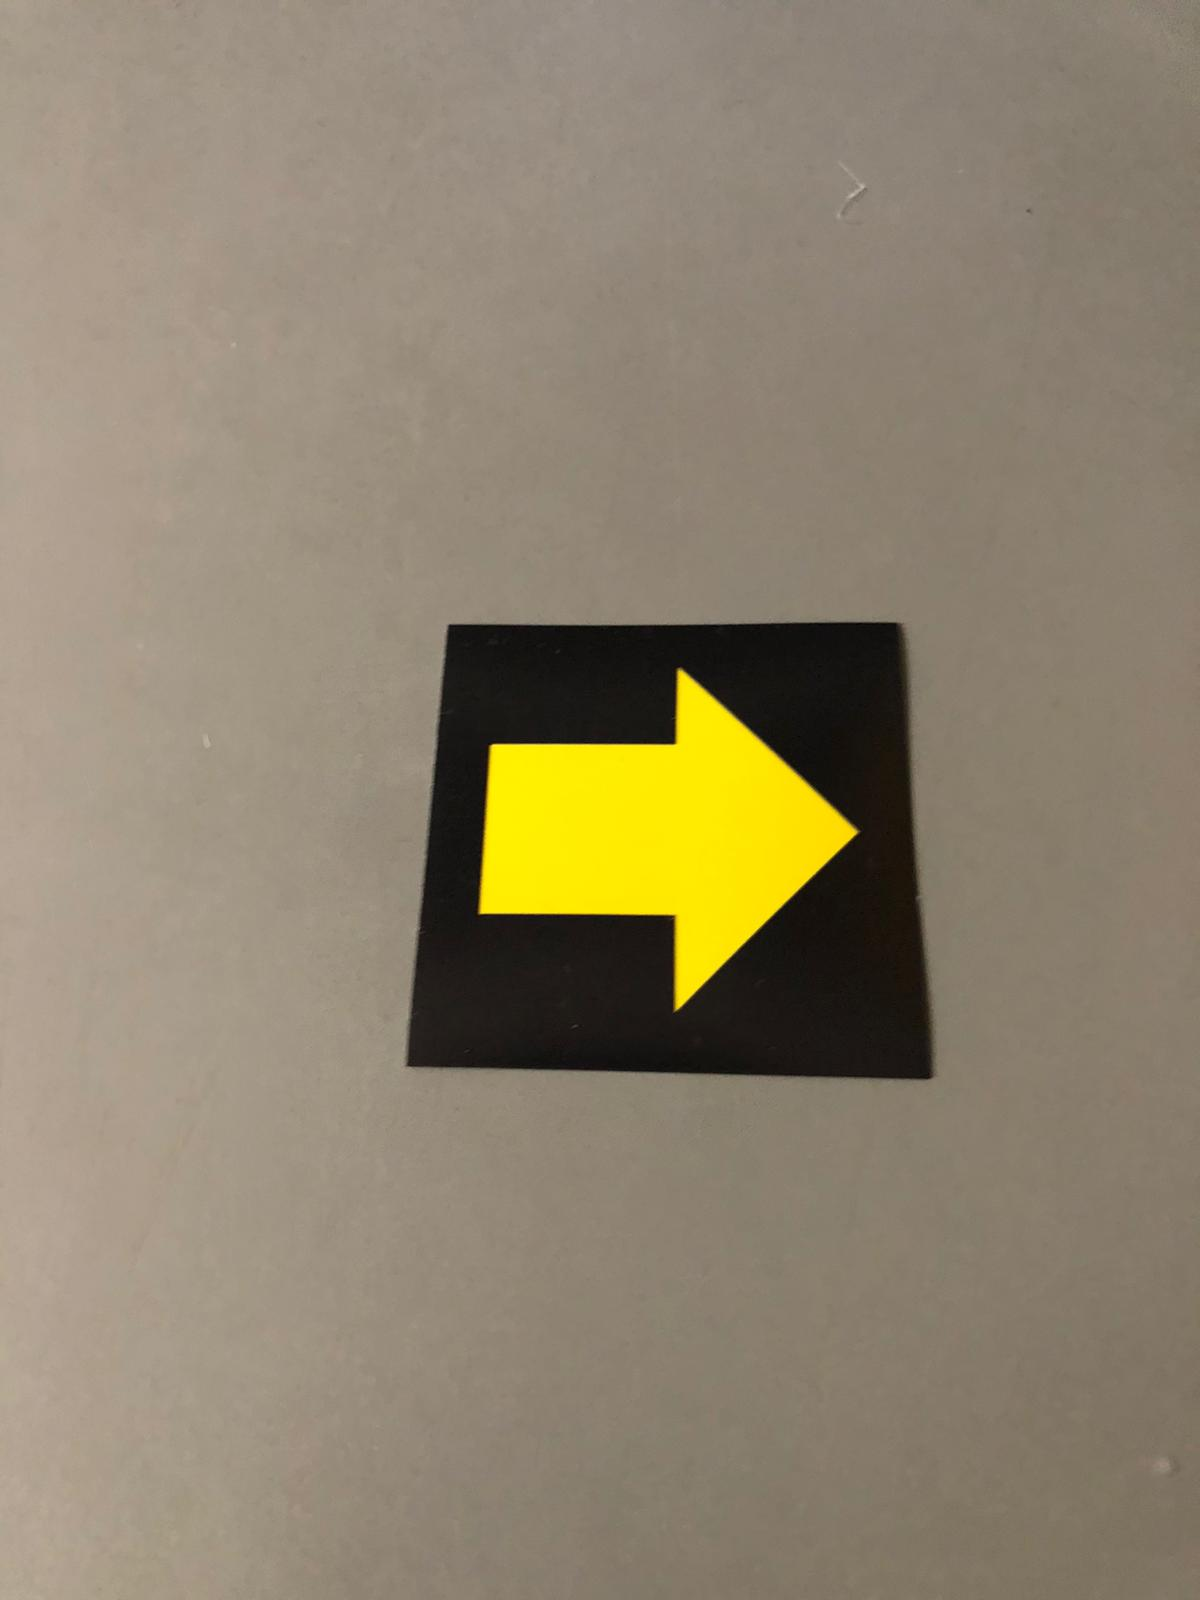Right Arrow: (445, 650, 884, 1046)
